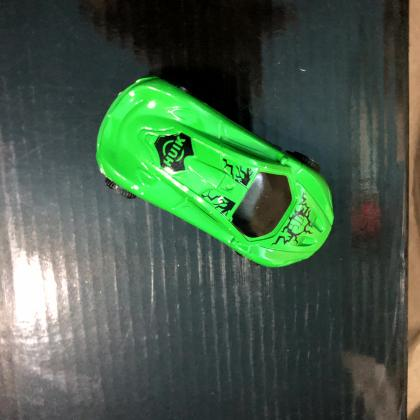Car: (95, 77, 335, 269)
